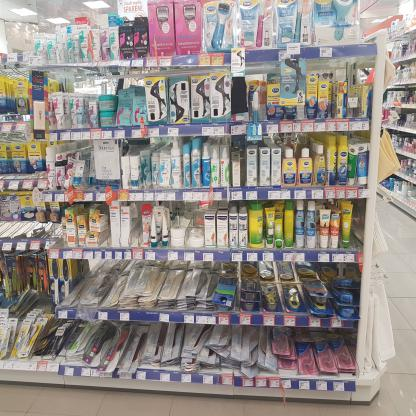Void: (352, 205, 361, 246), (131, 210, 141, 245)
